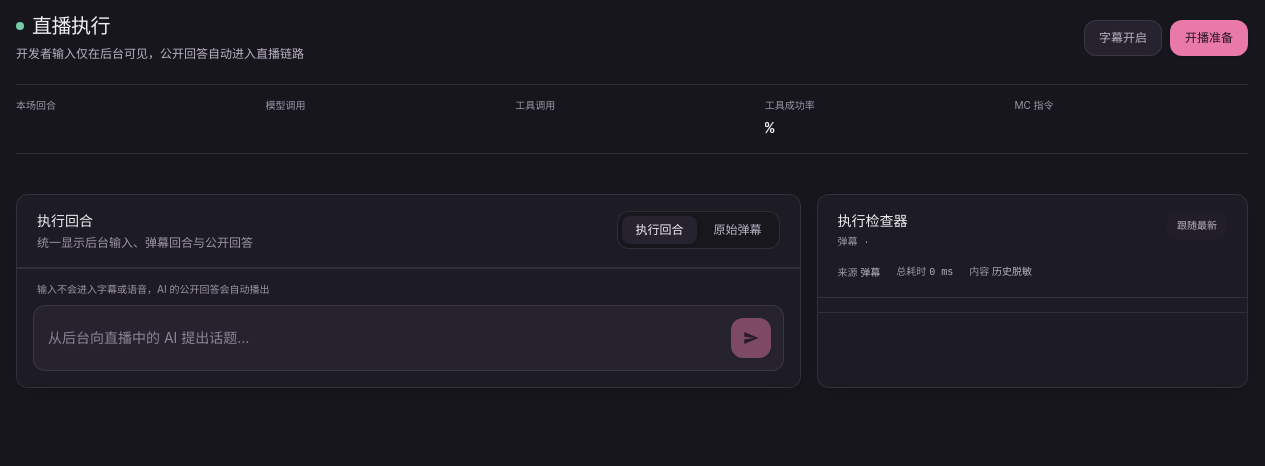
LiveOperationsWorkspace › uses only the trusted developer event for backstage intervention
Step 1. Type "去 Minecraft 看看基地" into the text box with placeholder "从后台向直播中的 AI 提出话题…" → (382, 338), box [46,318,718,358]
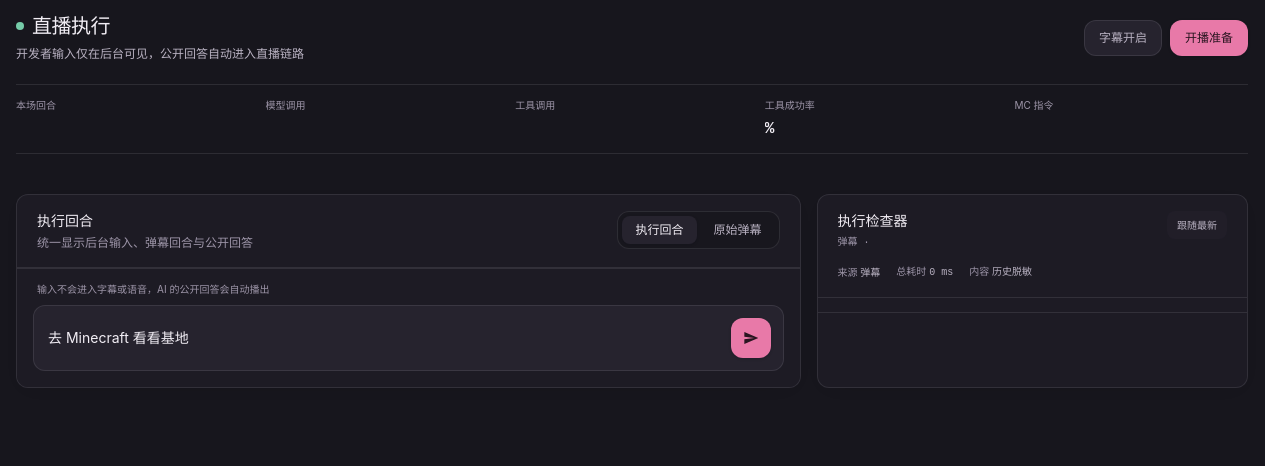
Step 2. Press Enter in the text box named "消息内容", box [46,318,718,358]
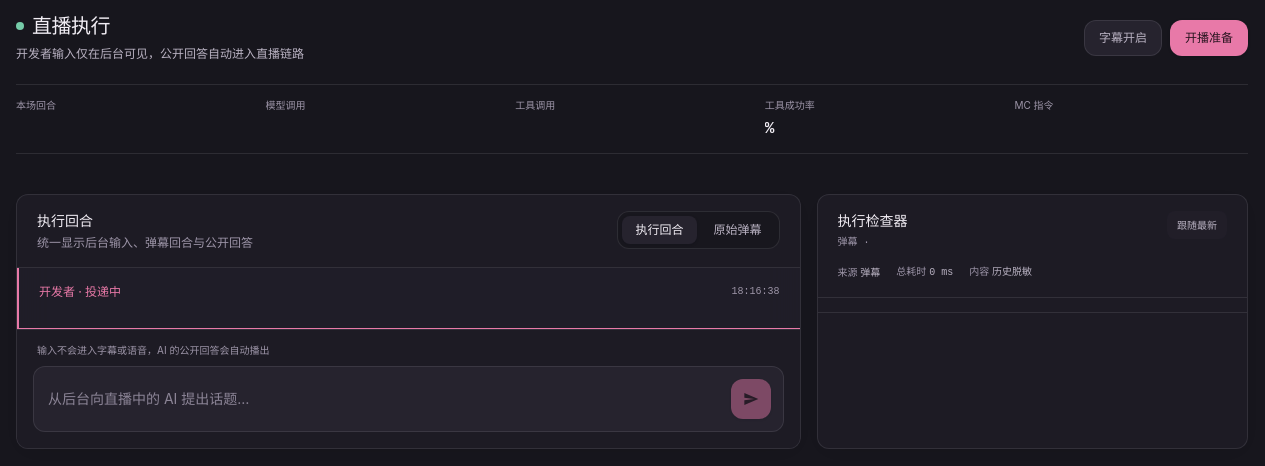
Result: the text "投递中" is shown at [39,284,121,299]
